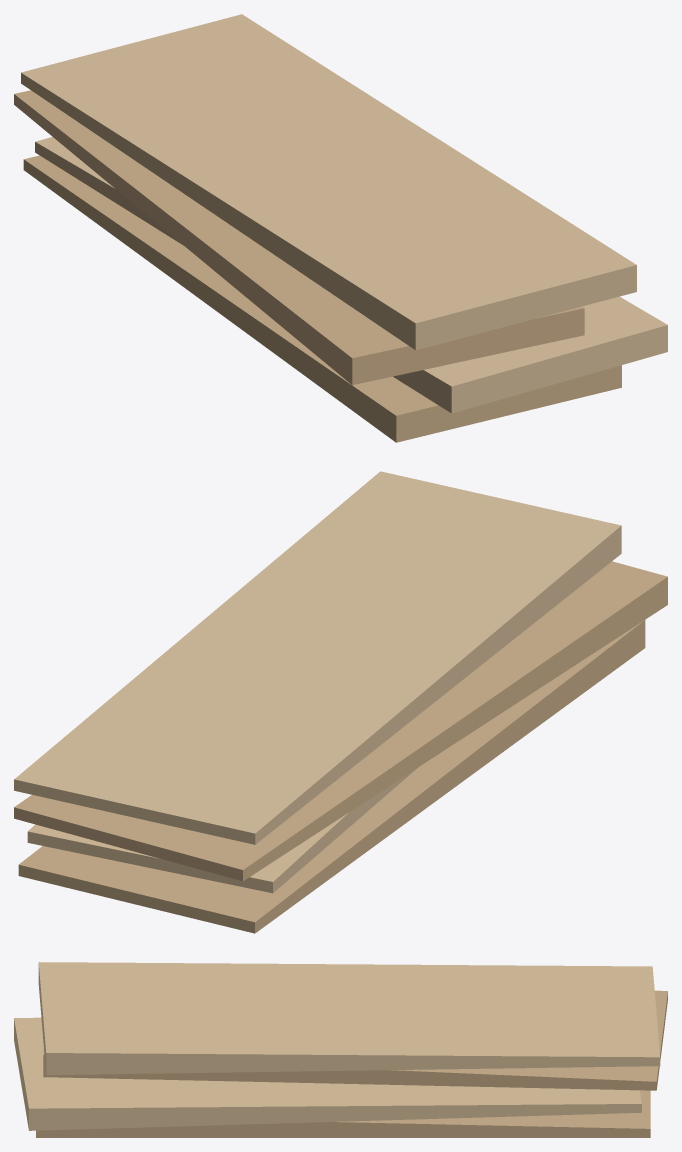
The model's file is prop-shingle-blank-stack-sg1.fbx.
3 renders of one model, top to bottom at view 1: azimuth 30°, elevation 25°; view 2: azimuth 150°, elevation 25°; view 3: azimuth 270°, elevation 25°, orthographic. The views are drawn at different scales.
Parts seen in each view (by area): view 1: prop-shingle-blank-stack-sg1; view 2: prop-shingle-blank-stack-sg1; view 3: prop-shingle-blank-stack-sg1.
Boxes of the visible parts, x1=… form: prop-shingle-blank-stack-sg1: x1=14, y1=14, x2=667, y2=442; prop-shingle-blank-stack-sg1: x1=14, y1=471, x2=667, y2=933; prop-shingle-blank-stack-sg1: x1=14, y1=962, x2=667, y2=1137.
Bounding box in the file's own units: 18.62 × 6.7 × 42.58.
